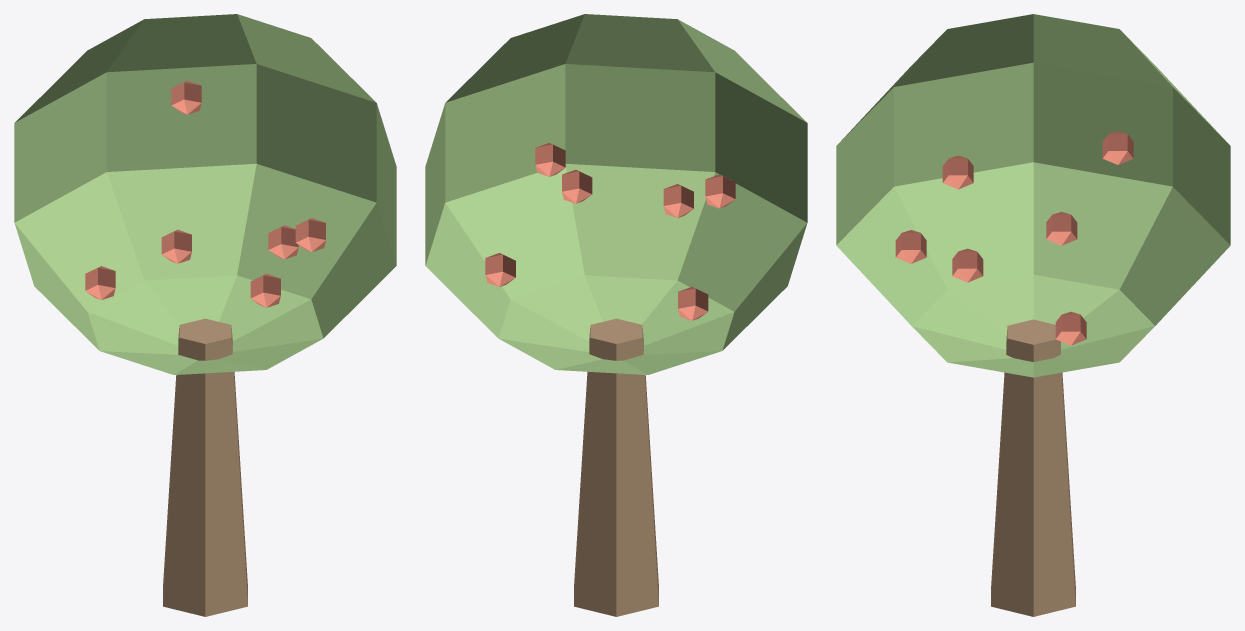
The model's file is hearthvale_fruit_tree.glb.
The picture shows the model from 3 angles, left to right: view 1: azimuth 30°, elevation 25°; view 2: azimuth 150°, elevation 25°; view 3: azimuth 270°, elevation 25°; orthographic projection.
Parts seen in each view (by area): view 1: FruitTree; view 2: FruitTree; view 3: FruitTree.
Part boxes in pixels (x1=…): FruitTree: x1=14, y1=14, x2=396, y2=616; FruitTree: x1=425, y1=14, x2=807, y2=616; FruitTree: x1=836, y1=14, x2=1230, y2=616.
Size of the model in its own units: 2.1 by 3.3 by 2.1.
